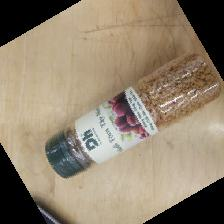TayNinh_green: (45, 54, 222, 180)
